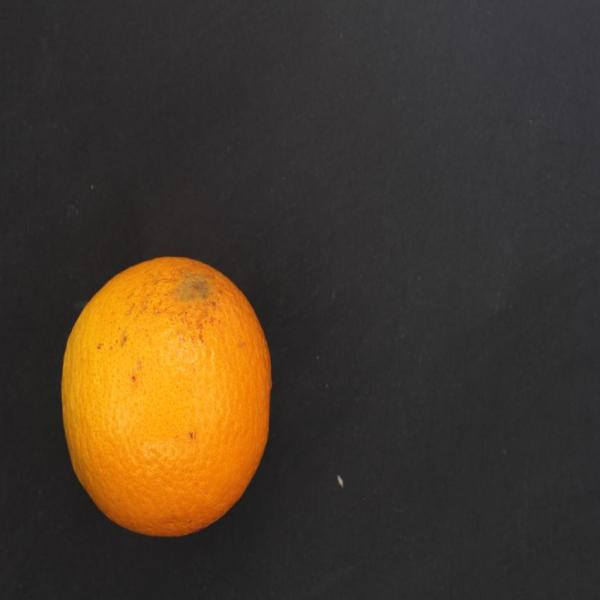Otros defectos: (47, 234, 283, 557)
